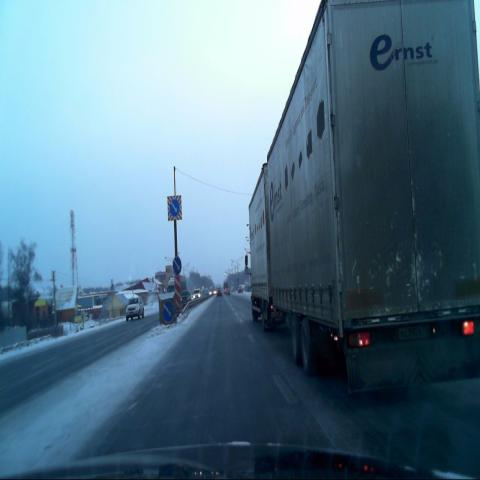4_2_1: (167, 194, 182, 221)
